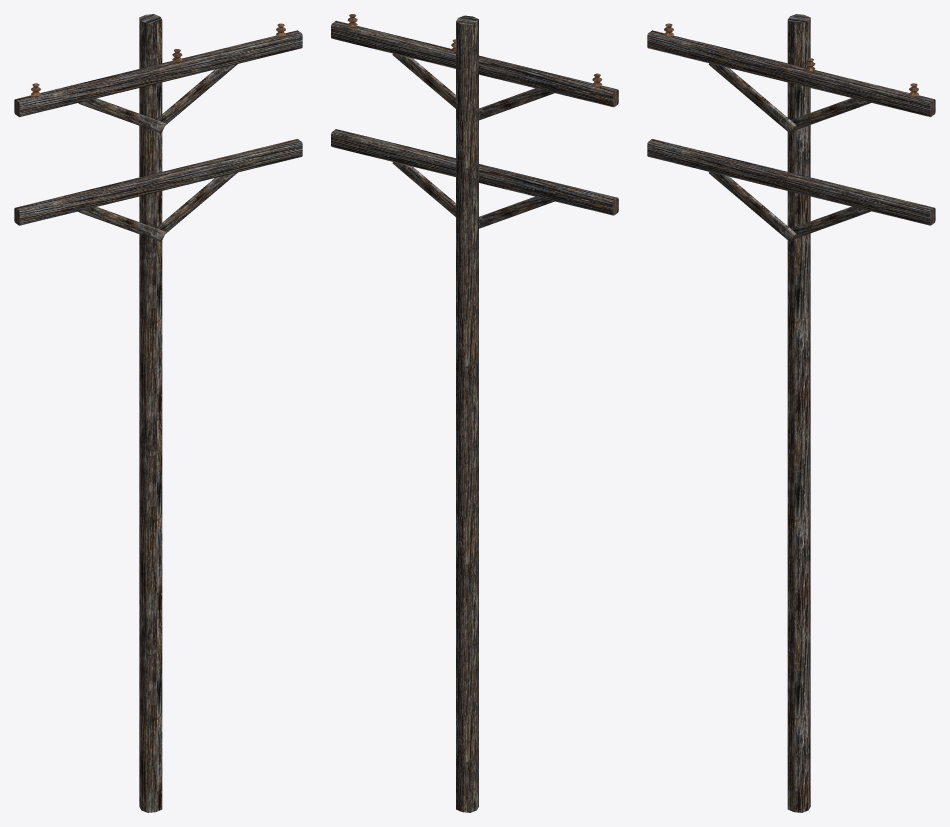
Rendered from cot dien.fbx.
3 views of the same model, side by side, from view 1: azimuth 30°, elevation 25°; view 2: azimuth 150°, elevation 25°; view 3: azimuth 330°, elevation 25° (orthographic).
Parts seen in each view (by area): view 1: Cylinder, Cube.003, Cube, Cube.004, Cube.001, Cube.002, Cube.005; view 2: Cylinder, Cube.003, Cube, Cube.001, Cube.004, Cube.005, Cube.002; view 3: Cylinder, Cube.003, Cube, Cube.001, Cube.004, Cube.002, Cube.005.
Boxes of the visible parts, <box> form: Cylinder: <box>139,14,162,812</box>; Cube.003: <box>14,139,302,225</box>; Cube: <box>14,30,302,117</box>; Cube.004: <box>78,207,165,241</box>; Cube.001: <box>78,98,165,133</box>; Cube.002: <box>156,64,237,125</box>; Cube.005: <box>156,172,237,233</box>; Cylinder: <box>456,15,478,812</box>; Cube.003: <box>331,129,618,215</box>; Cube: <box>331,20,618,107</box>; Cube.001: <box>479,88,554,120</box>; Cube.004: <box>479,196,554,228</box>; Cube.005: <box>392,162,479,225</box>; Cube.002: <box>392,53,479,116</box>; Cylinder: <box>787,14,810,812</box>; Cube.003: <box>647,139,935,225</box>; Cube: <box>647,30,935,117</box>; Cube.001: <box>708,63,796,133</box>; Cube.004: <box>709,172,796,242</box>; Cube.002: <box>791,98,870,130</box>; Cube.005: <box>791,206,870,239</box>.
Bounding box in the file's own units: 300 × 800 × 29.
2 materials, 2 textured.
